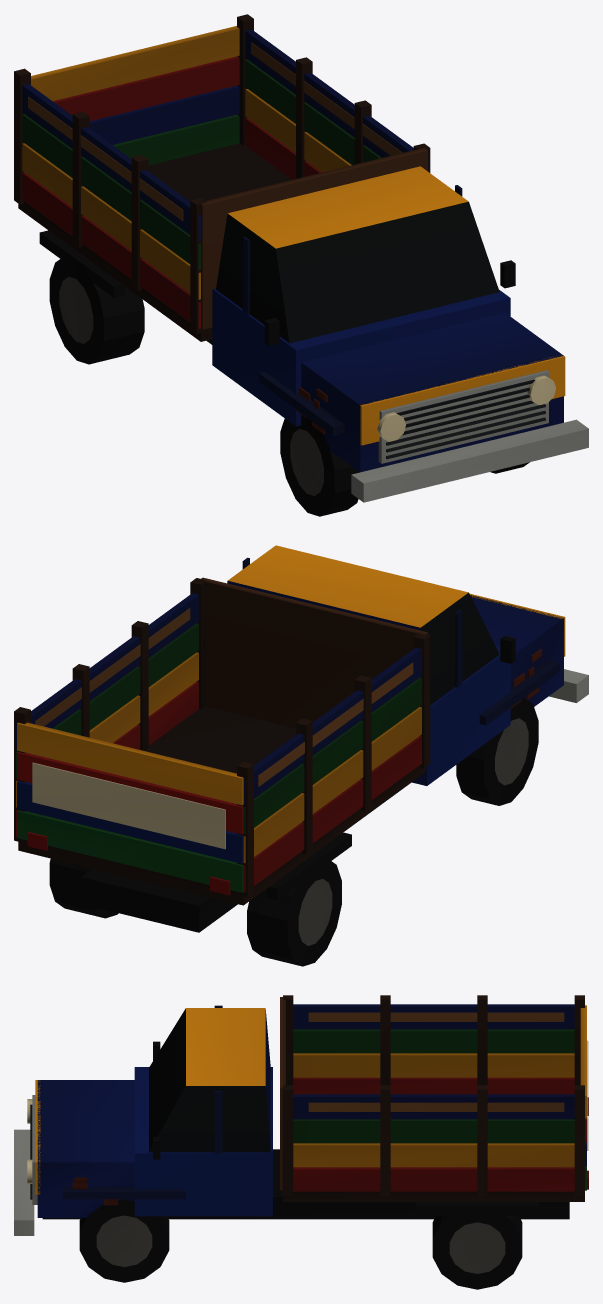
Rendered from fm_lorry.glb.
3 views of the same model, one above another, from view 1: azimuth 30°, elevation 25°; view 2: azimuth 150°, elevation 25°; view 3: azimuth 270°, elevation 25° (orthographic). The views are drawn at different scales.
Visible parts, largest first — view 1: fm_lorry; view 2: fm_lorry; view 3: fm_lorry.
Boxes of the visible parts, x1,y1,x2,y2 form: fm_lorry: (14, 14, 588, 516); fm_lorry: (14, 545, 588, 966); fm_lorry: (14, 995, 588, 1289).
Size of the model in its own units: 2.3 by 2.15 by 5.62.
